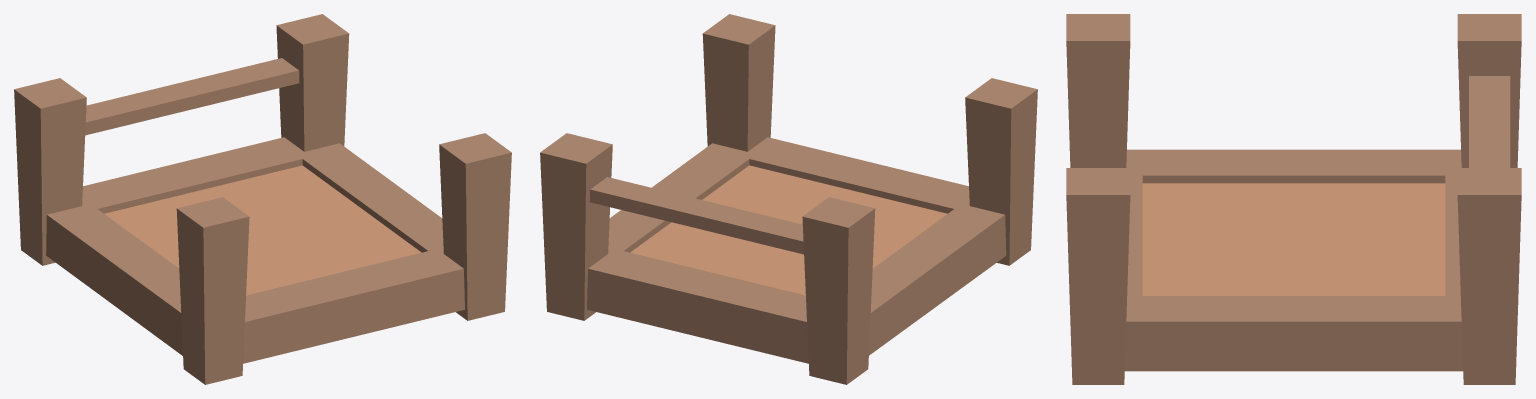
The model's file is bridge_3_part_2.fbx.
3 renders of one model, left to right at view 1: azimuth 30°, elevation 25°; view 2: azimuth 150°, elevation 25°; view 3: azimuth 270°, elevation 25°, orthographic. The views are drawn at different scales.
Visible parts, largest first — view 1: bridge_3_part_2; view 2: bridge_3_part_2; view 3: bridge_3_part_2.
Part boxes in pixels (x1,y1,x2,y2): bridge_3_part_2: [14, 14, 511, 384]; bridge_3_part_2: [540, 14, 1037, 384]; bridge_3_part_2: [1066, 14, 1521, 384].
Size of the model in its own units: 10.11 by 5.01 by 10.75.
